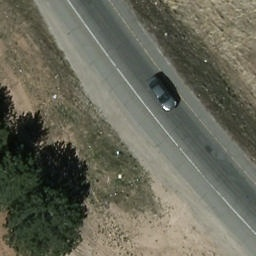car: (147, 76, 179, 112)
